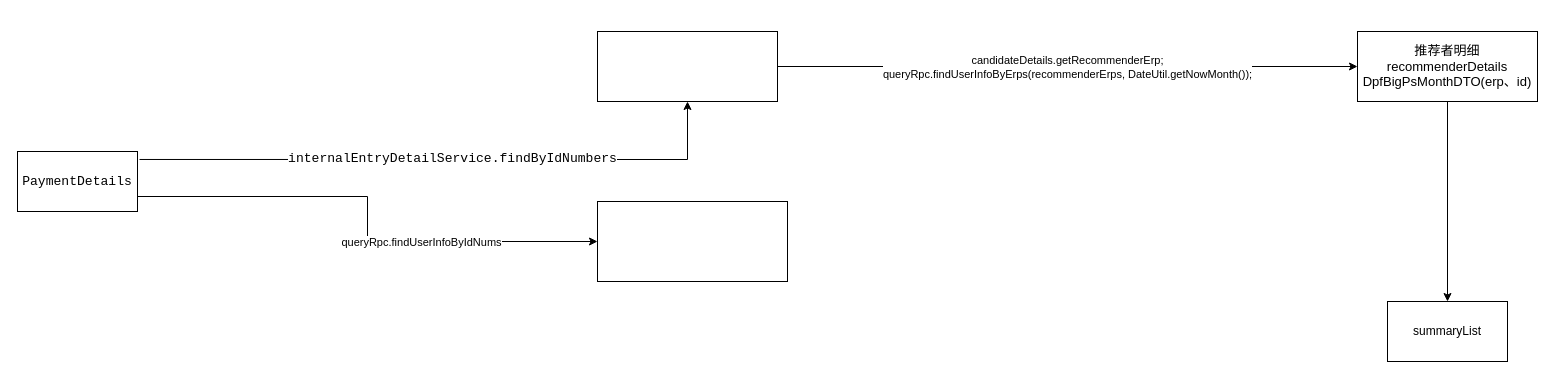
The diagram is 1555 pixels wide and 379 high, and some of its shapes have lost their labels. Here are the shapes that lost their labels. From the top down, the centre of each, then its label:
At point 687,66: "候选人明细 candidateDetails InternalEntryDetail".
At point 692,241: "候选人实时信息 UserInfoDTO(idNum、..)".
